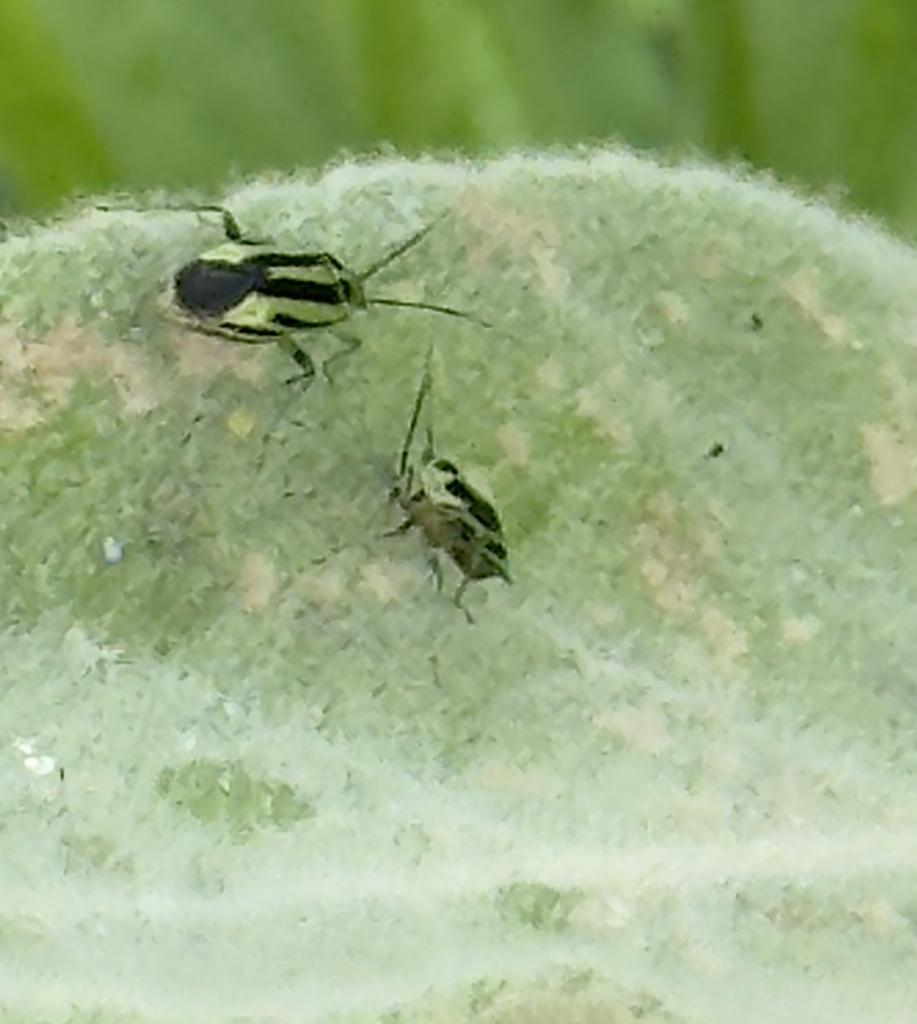plant_bugs: (69, 154, 546, 409), (336, 377, 576, 643)
